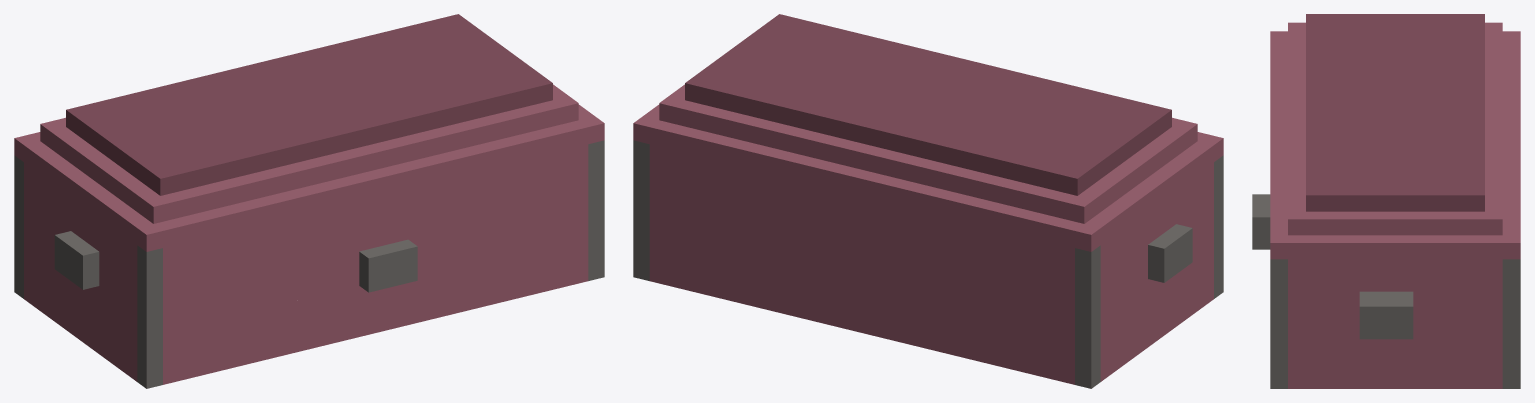
The model's file is baul_noble_tallado_01.glb.
The picture shows the model from 3 angles, left to right: view 1: azimuth 30°, elevation 25°; view 2: azimuth 150°, elevation 25°; view 3: azimuth 270°, elevation 25°; orthographic projection. The views are drawn at different scales.
Parts seen in each view (by area): view 1: baul_noble_tallado; view 2: baul_noble_tallado; view 3: baul_noble_tallado.
Boxes of the visible parts, x1,y1,x2,y2 form: baul_noble_tallado: (14,14,604,388); baul_noble_tallado: (633,14,1223,388); baul_noble_tallado: (1252,14,1520,388).
Size of the model in its own units: 2.21 by 0.7857 by 1.07.
